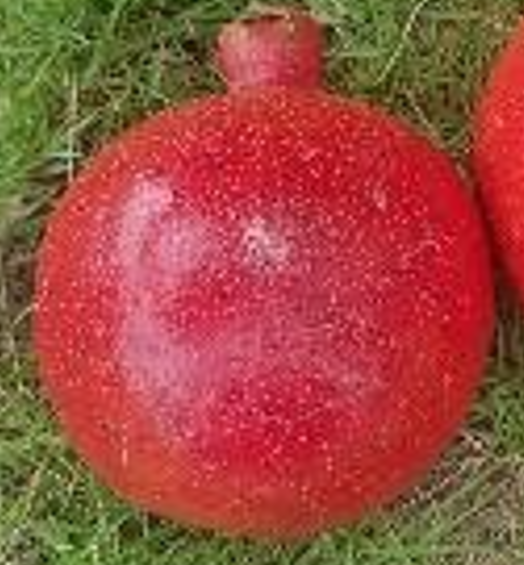pomegranate_A: (31, 12, 496, 542)
